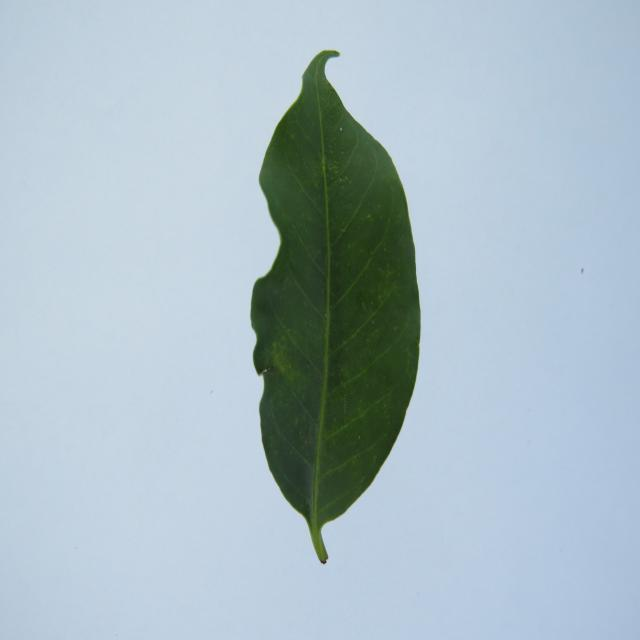DeficienciaNutricional-Calcio: (251, 50, 420, 563)
